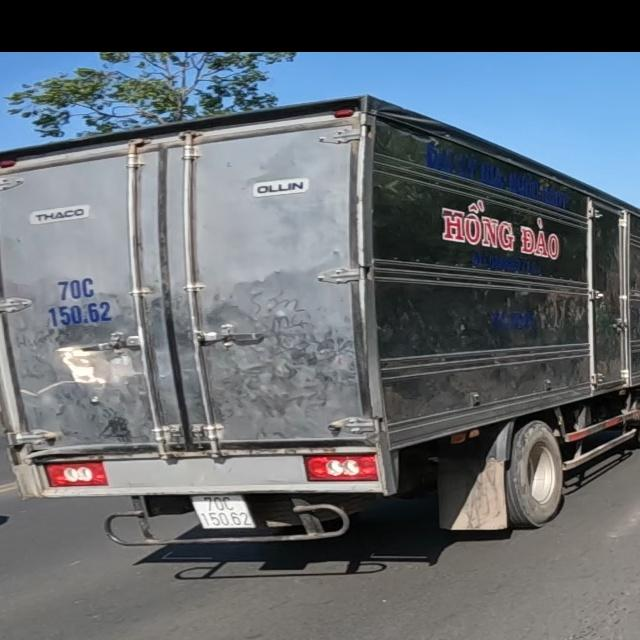license-plate: (192, 495, 256, 533)
